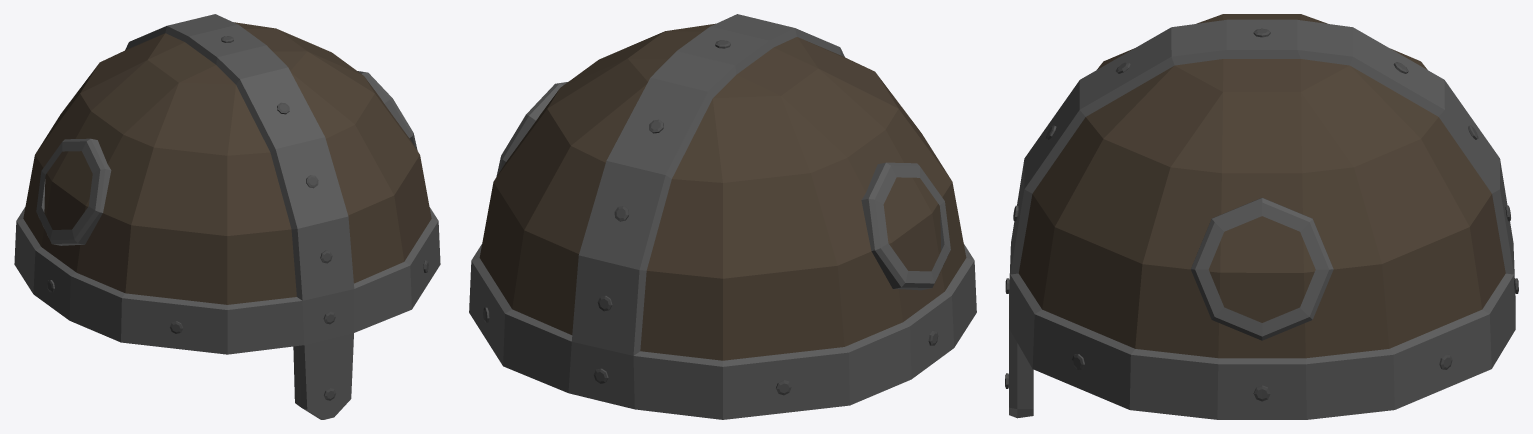
File: newHat.fbx
3 renders of one model, left to right at view 1: azimuth 30°, elevation 25°; view 2: azimuth 150°, elevation 25°; view 3: azimuth 270°, elevation 25°, orthographic. The views are drawn at different scales.
Parts seen in each view (by area): view 1: Helmet; view 2: Helmet; view 3: Helmet.
Part boxes in pixels (bbox=[...]): Helmet: bbox=[14, 14, 440, 419]; Helmet: bbox=[469, 14, 976, 419]; Helmet: bbox=[1005, 14, 1518, 419].
Bounding box in the file's own units: 28.38 × 23.5 × 28.5.
